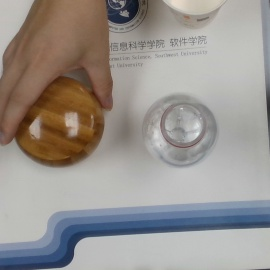bottle: (143, 94, 218, 167)
chess: (14, 75, 104, 168)
cup: (162, 1, 226, 27)
